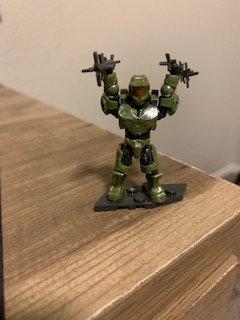chief: (96, 56, 182, 205)
spartan: (94, 54, 180, 203)
up: (97, 60, 180, 138)
